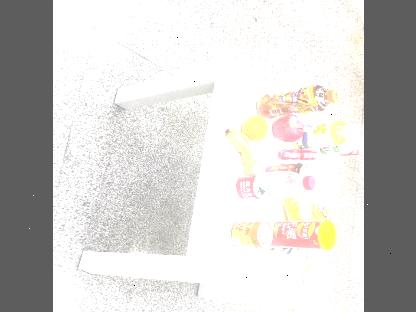Can: (227, 218, 273, 248), (262, 163, 312, 177)
Others: (256, 216, 338, 254)
Plastic Bottle: (224, 168, 316, 204)
